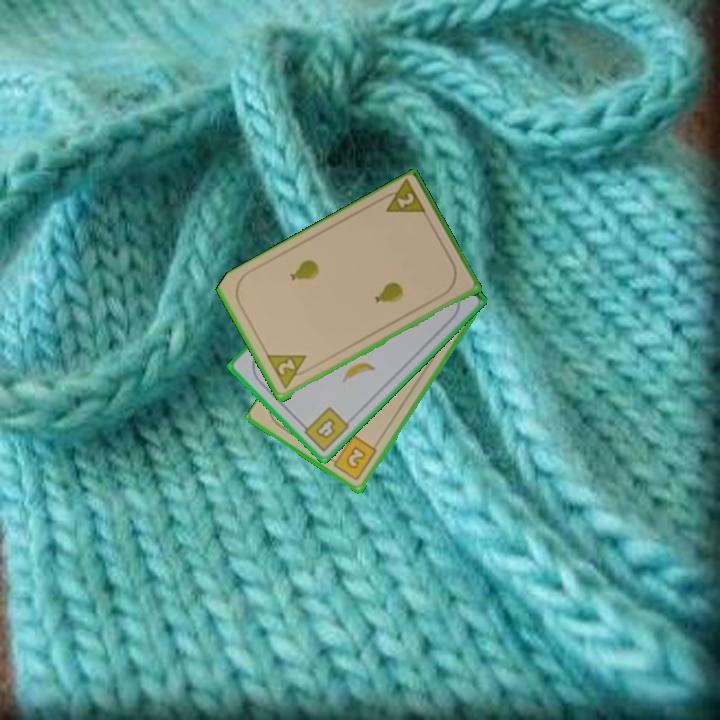2b: (326, 432, 380, 484)
2p: (376, 178, 429, 219), (264, 351, 314, 392)
4b: (297, 403, 352, 455)
